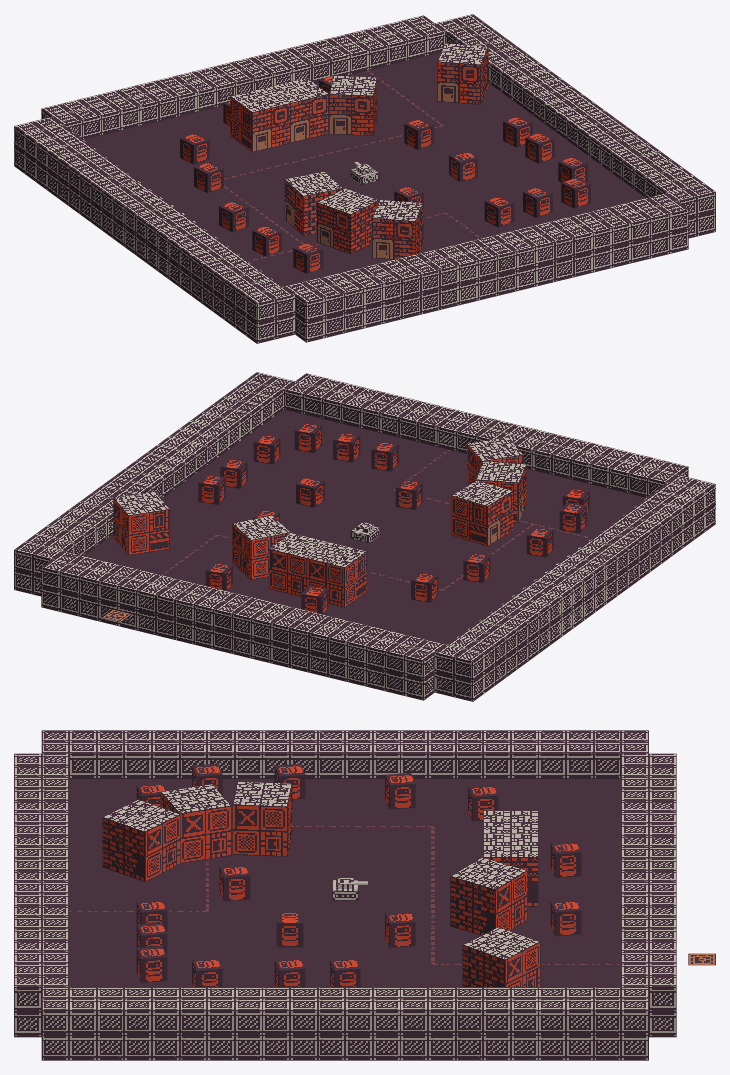
Rendered from sat-collision.gltf.
3 renders of one model, top to bottom at view 1: azimuth 30°, elevation 25°; view 2: azimuth 150°, elevation 25°; view 3: azimuth 270°, elevation 25°, orthographic. The views are drawn at different scales.
Parts seen in each view (by area): view 1: Plane, Cube.045, Cube.034, Cube.048, Cube.046, Cube.035, Cube.047, Cube.050, Cube.040, Cube.036, Cube.037, Cube.038 (+51 smaller); view 2: Plane, Cube.049, Cube.024, Cube.046, Cube.045, Cube.023, Cube.050, Cube.018, Cube.014, Cube.019, Cube.020, Cube.021 (+52 smaller); view 3: Plane, Cube.047, Cube.050, Cube.049, Cube.002, Cube.005, Cube.006, Cube.007, Cube.008, Cube.009, Cube.010, Cube.011 (+55 smaller).
Part boxes in pixels (x1,y1,x2,y2): Plane: (84, 52, 645, 286); Cube.045: (230, 87, 290, 152); Cube.034: (235, 278, 295, 343); Cube.048: (317, 188, 379, 254); Cube.046: (437, 43, 488, 104); Cube.035: (284, 277, 344, 342); Cube.047: (372, 199, 423, 259); Cube.050: (329, 75, 377, 135); Cube.040: (475, 230, 535, 295); Cube.036: (322, 268, 382, 333); Cube.037: (361, 258, 420, 323); Cube.038: (399, 249, 459, 314); Plane: (84, 409, 645, 644); Cube.049: (451, 480, 512, 546); Cube.024: (434, 636, 494, 701); Cube.046: (113, 491, 169, 555); Cube.045: (306, 542, 366, 607); Cube.023: (385, 635, 445, 700); Cube.050: (232, 515, 290, 579); Cube.018: (194, 588, 254, 653); Cube.014: (41, 551, 101, 616); Cube.019: (232, 598, 292, 663); Cube.020: (270, 607, 330, 672); Cube.021: (309, 616, 368, 681); Plane: (69, 779, 621, 986); Cube.047: (102, 799, 180, 881); Cube.050: (450, 857, 527, 935); Cube.049: (232, 781, 292, 856); Cube.002: (317, 987, 372, 1060); Cube.005: (428, 987, 483, 1060); Cube.006: (483, 987, 538, 1060); Cube.007: (538, 987, 593, 1060); Cube.008: (262, 987, 317, 1060); Cube.009: (207, 987, 262, 1060); Cube.010: (152, 987, 207, 1060); Cube.011: (96, 987, 151, 1060).
Size of the model in its own units: 24 by 3 by 25.43.
1 material, 1 textured.
